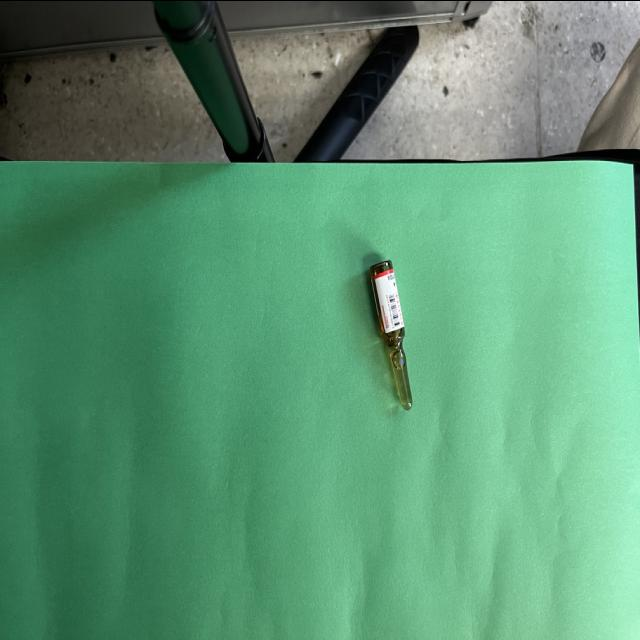Ampoules: (370, 258, 412, 409)
